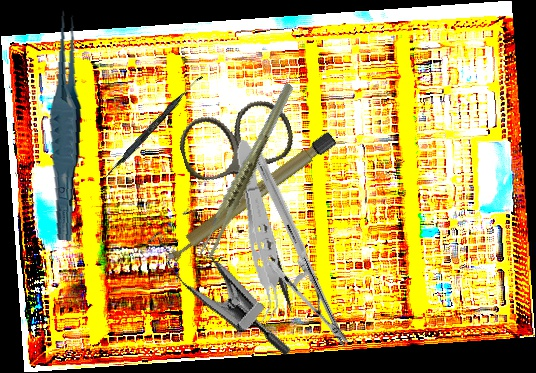Iris Scissors: (173, 93, 343, 330)
Needle Holder: (190, 146, 409, 348)
Scalpel Handle: (159, 129, 339, 267)
Spatula Surgical: (102, 71, 204, 183)
Speculum: (131, 196, 328, 359)
Tissue Forceps: (171, 81, 324, 261), (39, 9, 94, 242), (227, 137, 290, 327)
